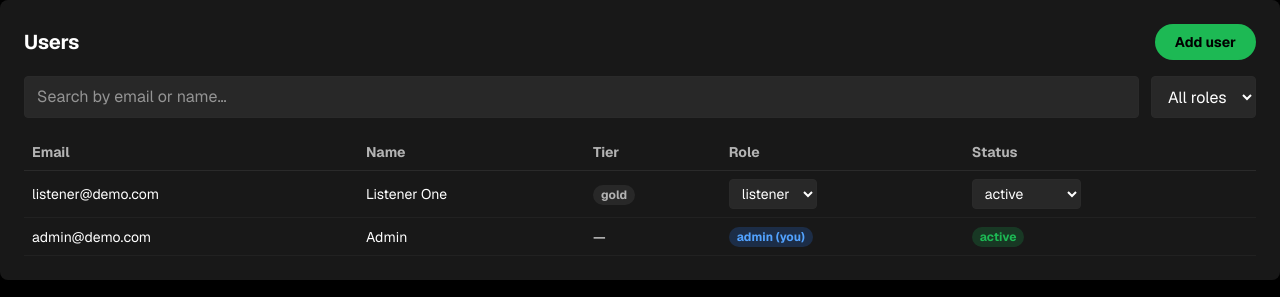
UserManagement › filters the roster by search text
The image size is (1280, 297).
Expected: the text "listener@demo.com" is shown, x1=24 y1=170 x2=358 y2=218
Type "admin" into the field named "Search users".
click(582, 97); type("admin")  # box x1=24 y1=76 x2=1139 y2=118
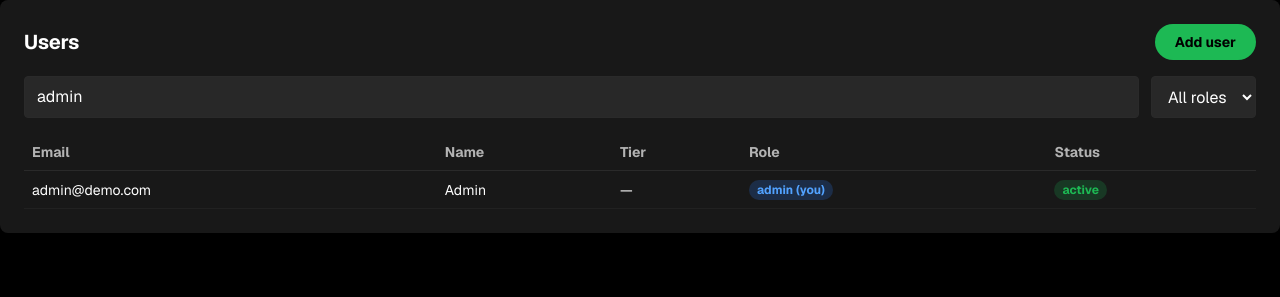
Expected: the text "admin@demo.com" is shown, x1=24 y1=170 x2=437 y2=208
Expected: the text "listener@demo.com" is gone
